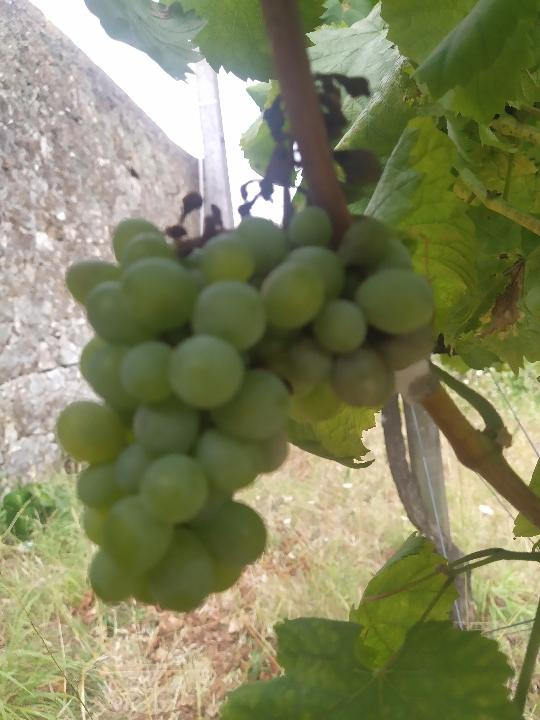grape: (52, 71, 440, 615)
